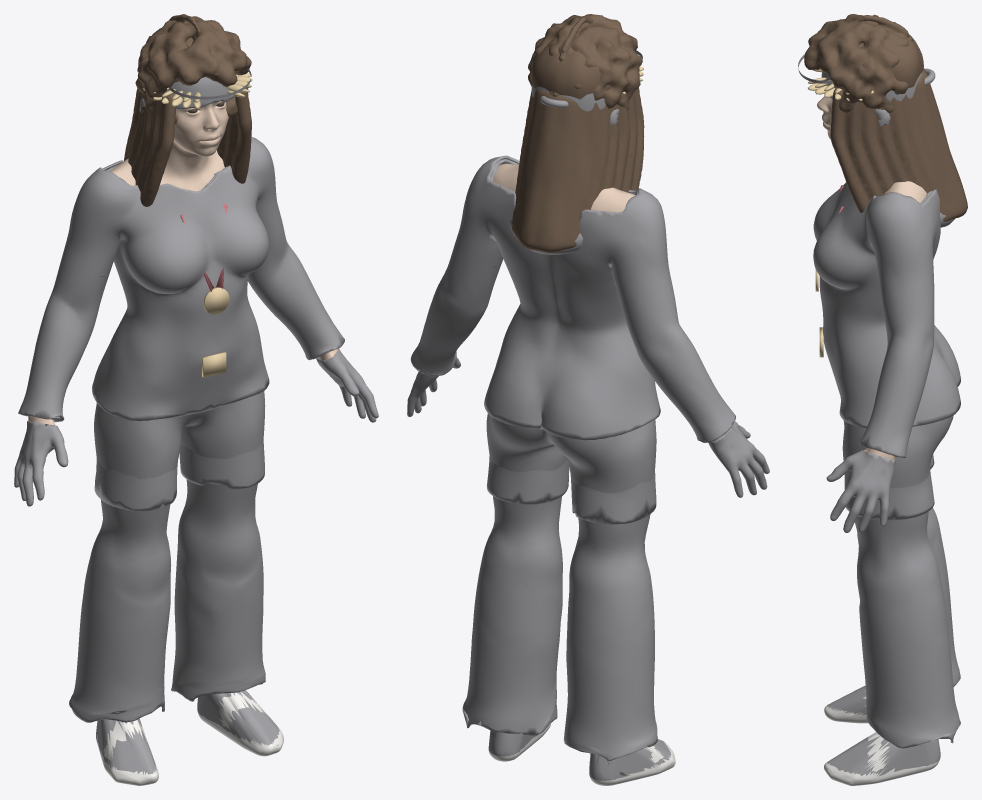
Rendered from character_f.glb.
The picture shows the model from 3 angles, left to right: view 1: azimuth 30°, elevation 25°; view 2: azimuth 150°, elevation 25°; view 3: azimuth 270°, elevation 25°; orthographic projection.
Parts seen in each view (by area): view 1: top_hoodie, bottom_wide, shoes_lifters, hair_afro, hairtail_long, bottom_shorts, body, extra_gloves, head_beanie, head_laurel, extra_medal; view 2: top_hoodie, bottom_wide, hairtail_long, bottom_shorts, hair_afro, shoes_lifters, extra_gloves, hair_short, body; view 3: top_hoodie, bottom_wide, hairtail_long, hair_afro, shoes_lifters, extra_gloves, bottom_shorts, hair_short, body, head_laurel, head_beanie, hair_mohawk.
Boxes of the visible parts, <box> form: top_hoodie: <box>18,137,344,422</box>; bottom_wide: <box>69,391,265,722</box>; shoes_lifters: <box>96,690,283,785</box>; hair_afro: <box>135,16,251,123</box>; hairtail_long: <box>124,88,251,206</box>; bottom_shorts: <box>94,439,264,511</box>; body: <box>28,101,337,425</box>; extra_gloves: <box>14,348,378,506</box>; head_beanie: <box>139,77,234,112</box>; head_laurel: <box>142,72,252,108</box>; extra_medal: <box>180,204,229,314</box>; top_hoodie: <box>410,155,735,442</box>; bottom_wide: <box>462,413,657,764</box>; hairtail_long: <box>511,87,644,252</box>; bottom_shorts: <box>487,456,656,524</box>; hair_afro: <box>528,14,642,110</box>; shoes_lifters: <box>488,723,675,785</box>; extra_gloves: <box>407,357,769,497</box>; hair_short: <box>531,37,613,99</box>; body: <box>493,163,721,441</box>; top_hoodie: <box>813,182,960,457</box>; bottom_wide: <box>842,415,960,748</box>; hairtail_long: <box>830,70,967,221</box>; hair_afro: <box>804,14,909,112</box>; shoes_lifters: <box>824,685,940,785</box>; extra_gloves: <box>826,450,895,532</box>; bottom_shorts: <box>844,454,934,520</box>; hair_short: <box>858,34,923,87</box>; body: <box>817,96,926,460</box>; head_laurel: <box>808,69,884,100</box>; head_beanie: <box>821,71,922,126</box>; hair_mohawk: <box>849,15,912,41</box>.
Bounding box in the file's own units: 0.8473 × 1.72 × 0.3613.
